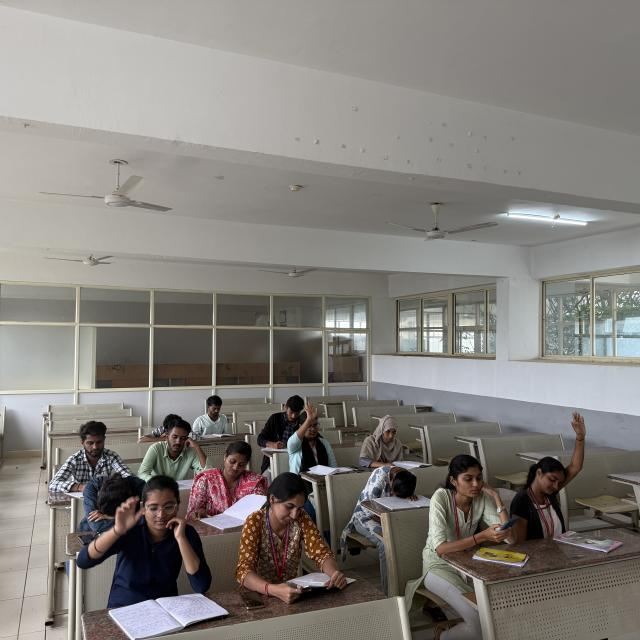Hand Rising: (84, 476, 212, 608), (513, 412, 597, 547), (286, 398, 336, 470)
Reading: (233, 473, 355, 608), (191, 438, 265, 528), (139, 416, 209, 488), (358, 413, 419, 475), (192, 394, 238, 438)
Sleeping: (80, 468, 144, 546), (358, 456, 427, 513)
Using Phone: (428, 452, 516, 562)
Writing: (260, 393, 307, 453)
